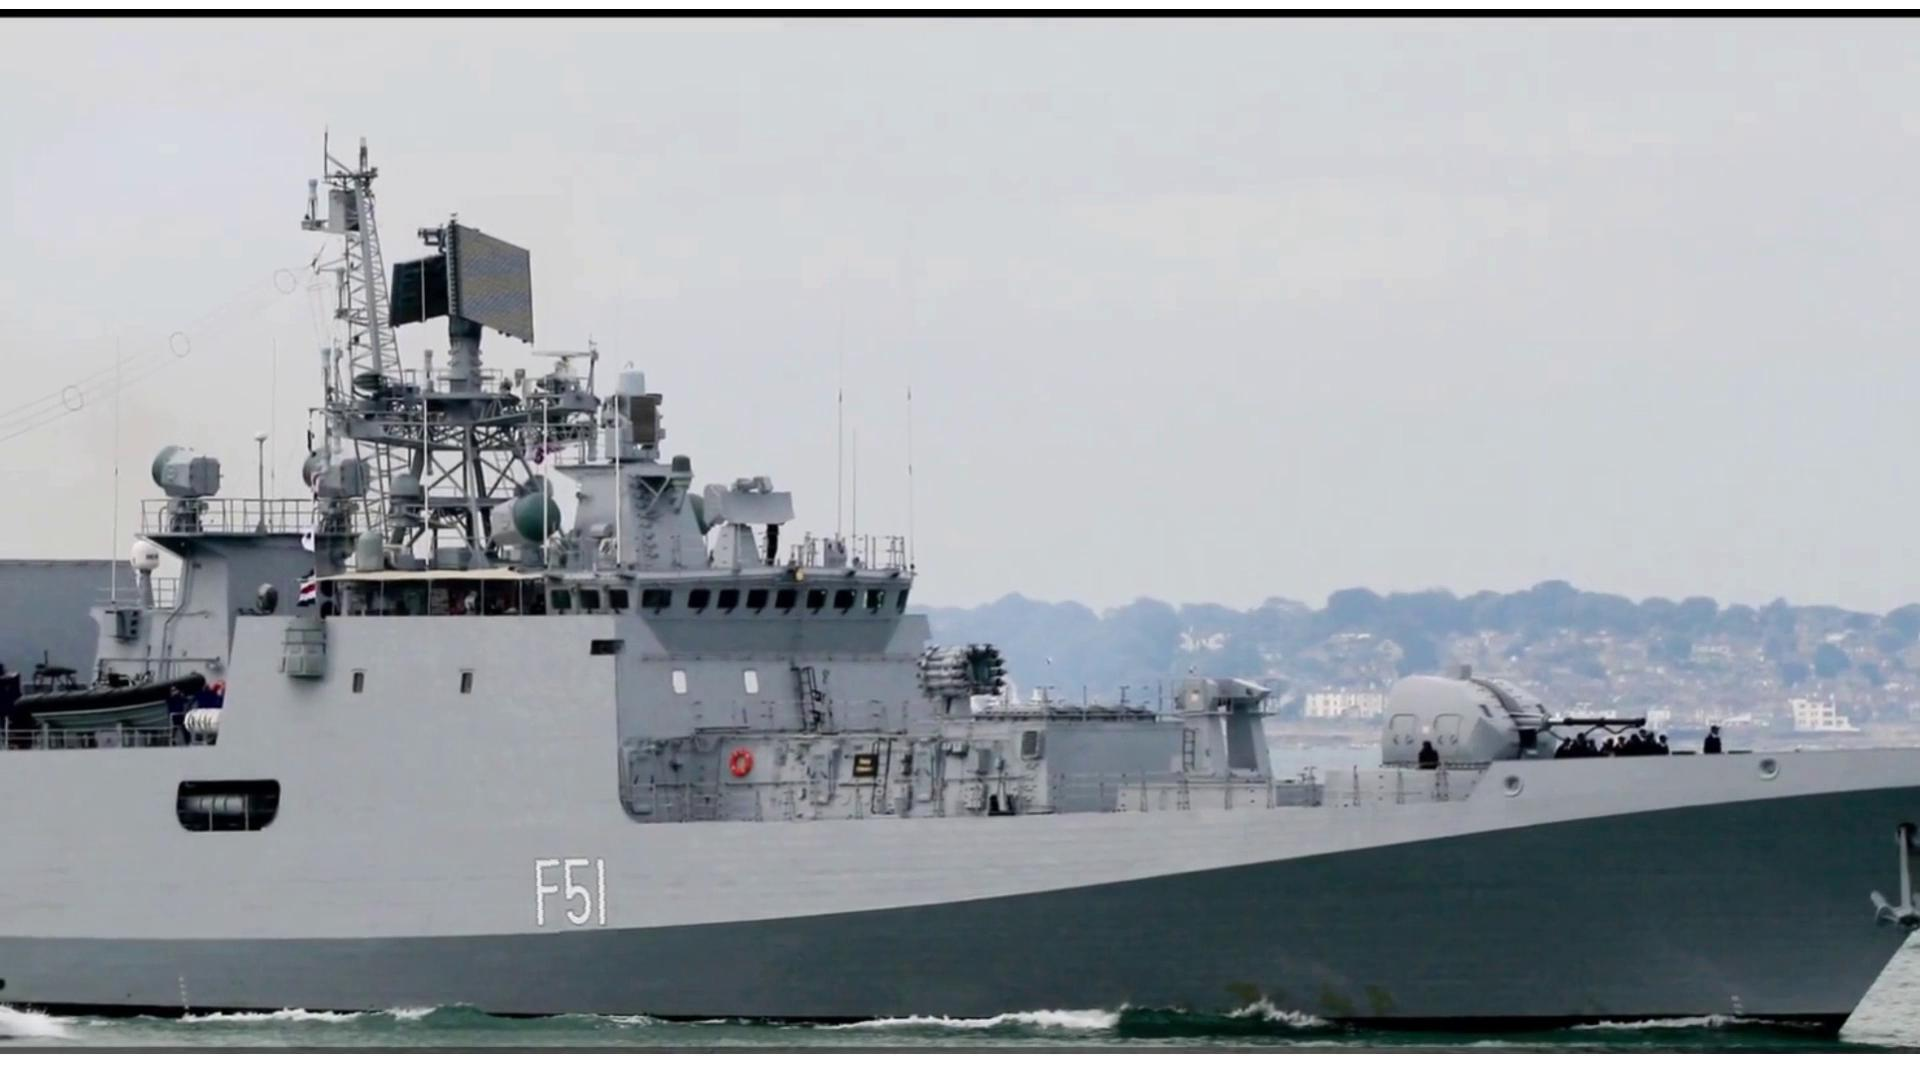OCR: (516, 851, 617, 940)
